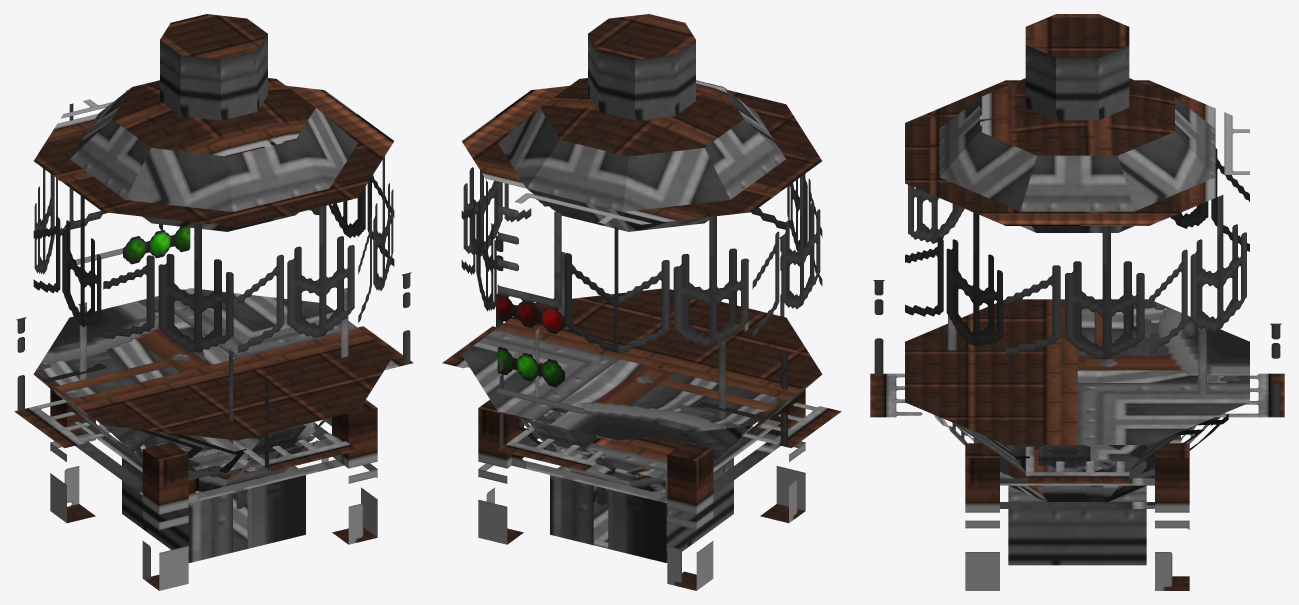
Rendered from chemical_reactor.obj.
The picture shows the model from 3 angles, left to right: view 1: azimuth 30°, elevation 25°; view 2: azimuth 150°, elevation 25°; view 3: azimuth 270°, elevation 25°; orthographic projection. The views are drawn at different scales.
Visible parts, largest first — view 1: mainkettletop, kettlecover, elc1, exout, mainkettlebottom, leg7, leg6, out, leg4, 21, out3, 33 (+1 smaller); view 2: mainkettletop, kettlecover, mainkettlebottom, elc1, exout, leg4, leg5, redstone, leg7, out, 22, 33 (+1 smaller); view 3: mainkettletop, kettlecover, mainkettlebottom, elc1, exout, leg6, leg5, redstone, out3, 32, out2.
Part boxes in pixels (x1=…): mainkettletop: x1=33, y1=85, x2=394, y2=440; kettlecover: x1=70, y1=78, x2=357, y2=231; elc1: x1=160, y1=14, x2=267, y2=120; exout: x1=122, y1=436, x2=305, y2=562; mainkettlebottom: x1=34, y1=288, x2=393, y2=491; leg7: x1=142, y1=442, x2=188, y2=590; leg6: x1=332, y1=400, x2=377, y2=544; out: x1=14, y1=302, x2=104, y2=448; leg4: x1=50, y1=389, x2=95, y2=523; 21: x1=188, y1=436, x2=344, y2=503; out3: x1=229, y1=349, x2=357, y2=471; 33: x1=74, y1=419, x2=142, y2=494; mainkettletop: x1=461, y1=85, x2=822, y2=440; kettlecover: x1=498, y1=78, x2=785, y2=231; mainkettlebottom: x1=462, y1=288, x2=821, y2=491; elc1: x1=588, y1=14, x2=695, y2=120; exout: x1=550, y1=436, x2=733, y2=562; leg4: x1=667, y1=442, x2=713, y2=590; leg5: x1=478, y1=400, x2=523, y2=544; redstone: x1=497, y1=329, x2=605, y2=471; leg7: x1=760, y1=389, x2=805, y2=523; out: x1=718, y1=340, x2=841, y2=448; 22: x1=511, y1=437, x2=667, y2=503; 33: x1=713, y1=419, x2=780, y2=494; mainkettletop: x1=905, y1=80, x2=1249, y2=444; kettlecover: x1=939, y1=78, x2=1215, y2=232; mainkettlebottom: x1=908, y1=301, x2=1249, y2=501; elc1: x1=1025, y1=14, x2=1129, y2=120; exout: x1=1008, y1=445, x2=1146, y2=565; leg6: x1=965, y1=443, x2=999, y2=590; leg5: x1=1155, y1=443, x2=1189, y2=590; redstone: x1=1198, y1=323, x2=1284, y2=417; out3: x1=870, y1=280, x2=956, y2=417; 32: x1=1000, y1=478, x2=1154, y2=508; out2: x1=1025, y1=446, x2=1129, y2=482.
Size of the model in its own units: 3 by 4 by 3.
